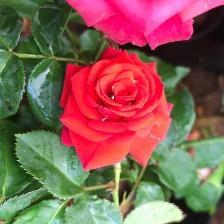rose: (58, 46, 175, 174)
